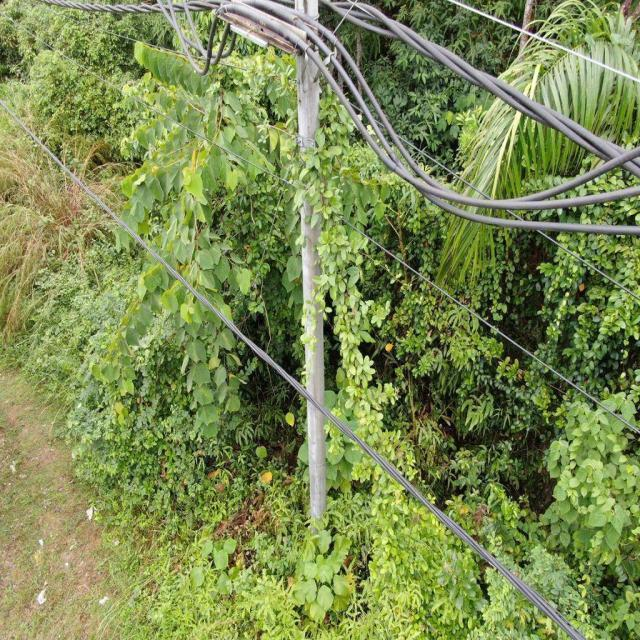critical vegetation: (293, 74, 408, 498)
